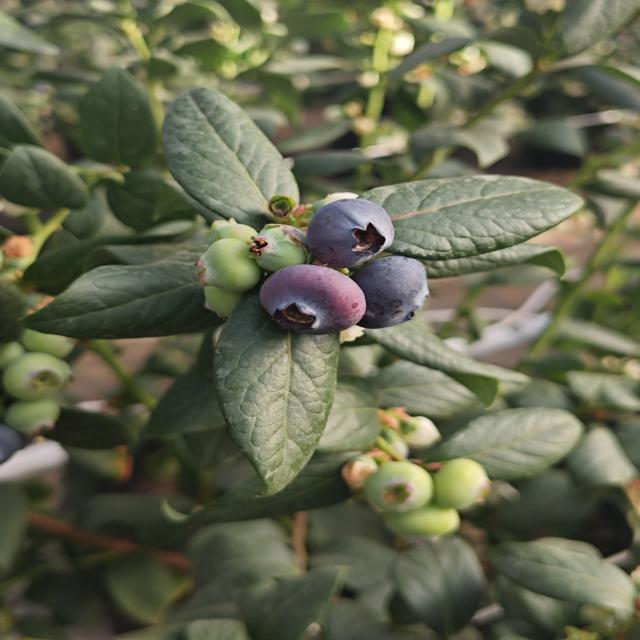ripe: (337, 248, 444, 332), (257, 263, 368, 336), (303, 197, 397, 270)
